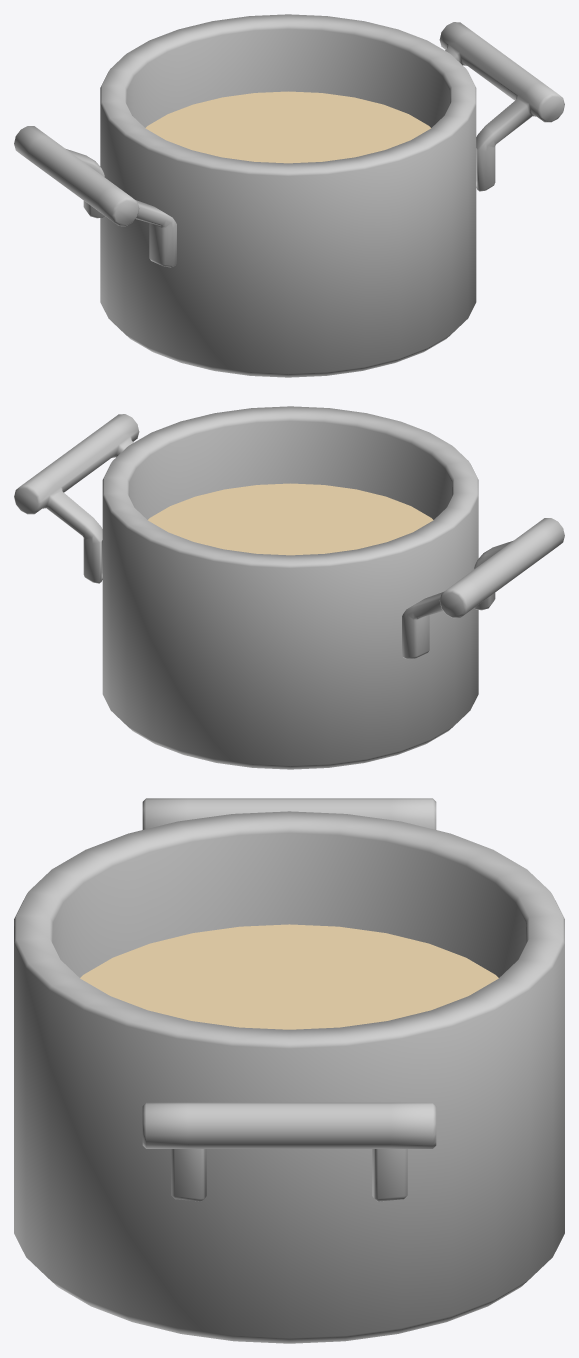
The model's file is m_sk_pot_01.fbx.
The picture shows the model from 3 angles, top to bottom: view 1: azimuth 30°, elevation 25°; view 2: azimuth 150°, elevation 25°; view 3: azimuth 270°, elevation 25°; orthographic projection. The views are drawn at different scales.
Parts seen in each view (by area): view 1: m_sk_pot_01_0, Cylinder; view 2: m_sk_pot_01_0, Cylinder; view 3: m_sk_pot_01_0, Cylinder.
Part boxes in pixels (bbox=[...]): m_sk_pot_01_0: bbox=[14, 14, 564, 377]; Cylinder: bbox=[145, 91, 430, 163]; m_sk_pot_01_0: bbox=[14, 406, 564, 769]; Cylinder: bbox=[148, 483, 433, 555]; m_sk_pot_01_0: bbox=[14, 798, 564, 1343]; Cylinder: bbox=[80, 924, 498, 1029].
Bounding box in the file's own units: 1.17 × 0.5102 × 0.8393.
